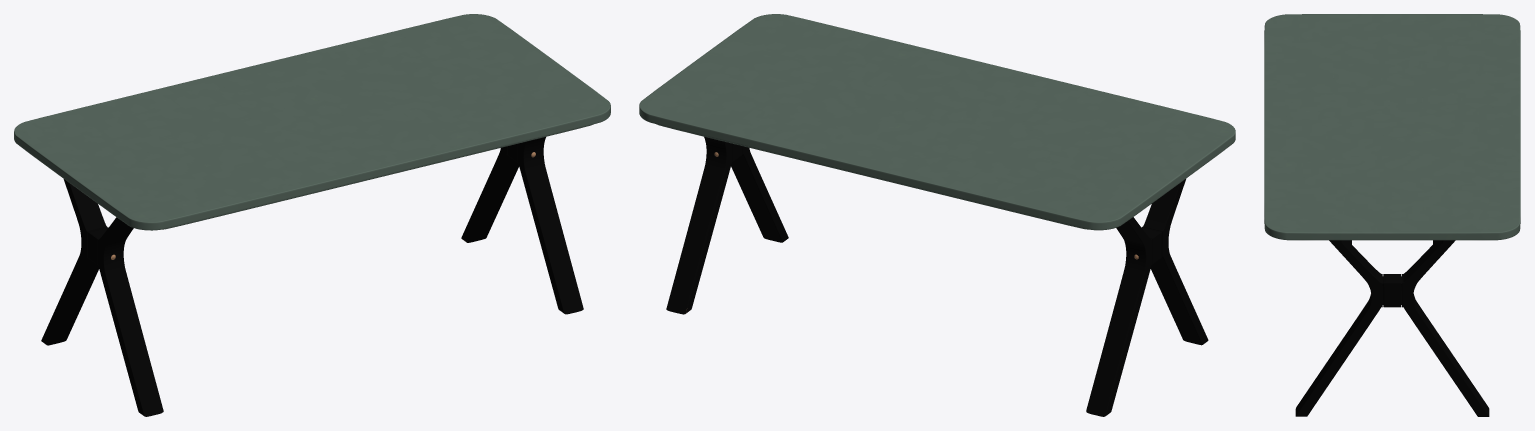
The picture shows the model from 3 angles, left to right: view 1: azimuth 30°, elevation 25°; view 2: azimuth 150°, elevation 25°; view 3: azimuth 270°, elevation 25°; orthographic projection. The views are drawn at different scales.
Parts seen in each view (by area): view 1: pCube5, polySurface7; view 2: pCube5, polySurface7; view 3: pCube5, polySurface7.
Part boxes in pixels (left/top/right/bottom): pCube5: left=14, top=14, right=610, bottom=230; polySurface7: left=41, top=137, right=583, bottom=416; pCube5: left=639, top=14, right=1235, bottom=230; polySurface7: left=666, top=137, right=1208, bottom=416; pCube5: left=1264, top=14, right=1520, bottom=244; polySurface7: left=1295, top=240, right=1489, bottom=416.
Size of the model in its own units: 1.78 by 0.7356 by 0.88.
Materials: 2 (2 with a texture image).
